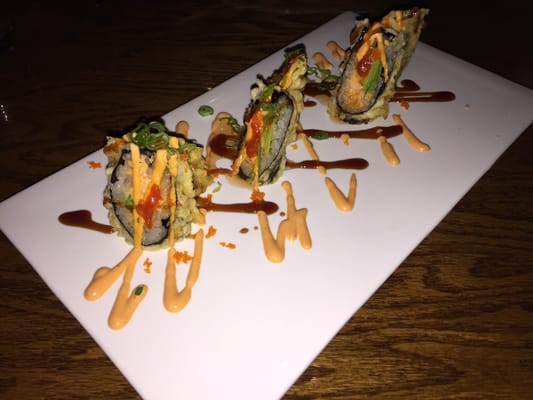curry: (2, 0, 530, 400)
